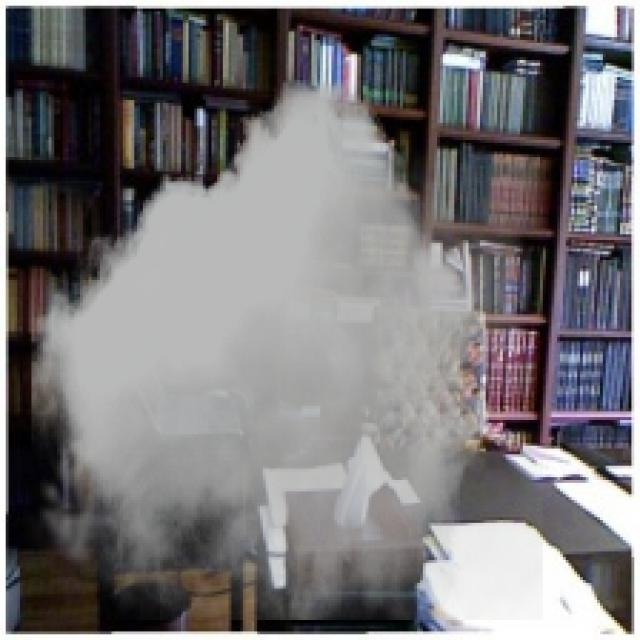smoke: (23, 80, 543, 620)
